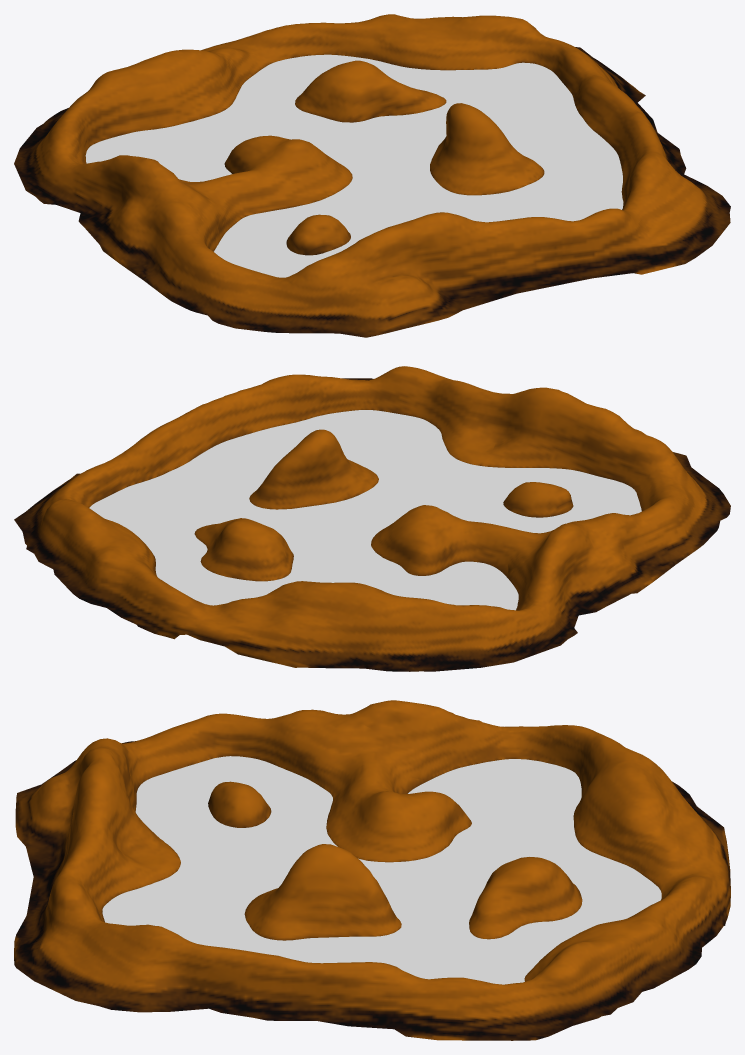
Rendered from testarena2.glb.
3 views of the same model, one above another, from view 1: azimuth 30°, elevation 25°; view 2: azimuth 150°, elevation 25°; view 3: azimuth 270°, elevation 25° (orthographic). The views are drawn at different scales.
Visible parts, largest first — view 1: terrain, __water__; view 2: terrain, __water__; view 3: terrain, __water__.
Boxes of the visible parts, x1,y1,x2,y2 form: terrain: (14, 14, 730, 337); __water__: (85, 54, 623, 277); terrain: (14, 366, 730, 671); __water__: (89, 410, 641, 610); terrain: (14, 700, 730, 1040); __water__: (102, 756, 661, 984).
Size of what is drawn, in the model's own units: 62.78 by 7.77 by 63.19.
2 materials, 1 textured.
